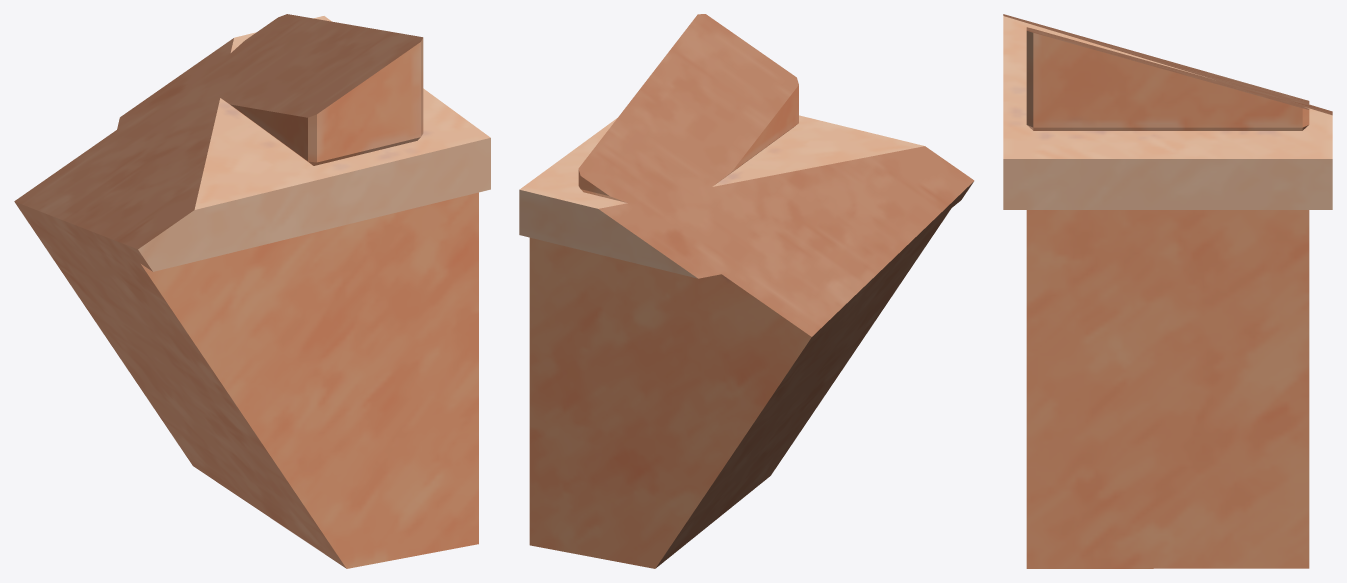
Rendered from towngate_s07.fbx.
3 views of the same model, side by side, from view 1: azimuth 30°, elevation 25°; view 2: azimuth 150°, elevation 25°; view 3: azimuth 270°, elevation 25° (orthographic). The views are drawn at different scales.
Parts seen in each view (by area): view 1: towngate_s07; view 2: towngate_s07; view 3: towngate_s07.
Boxes of the visible parts, x1=… form: towngate_s07: x1=14, y1=14, x2=490, y2=568; towngate_s07: x1=519, y1=14, x2=974, y2=568; towngate_s07: x1=1003, y1=14, x2=1332, y2=568.
Bounding box in the file's own units: 4.28 × 5.99 × 3.5.
